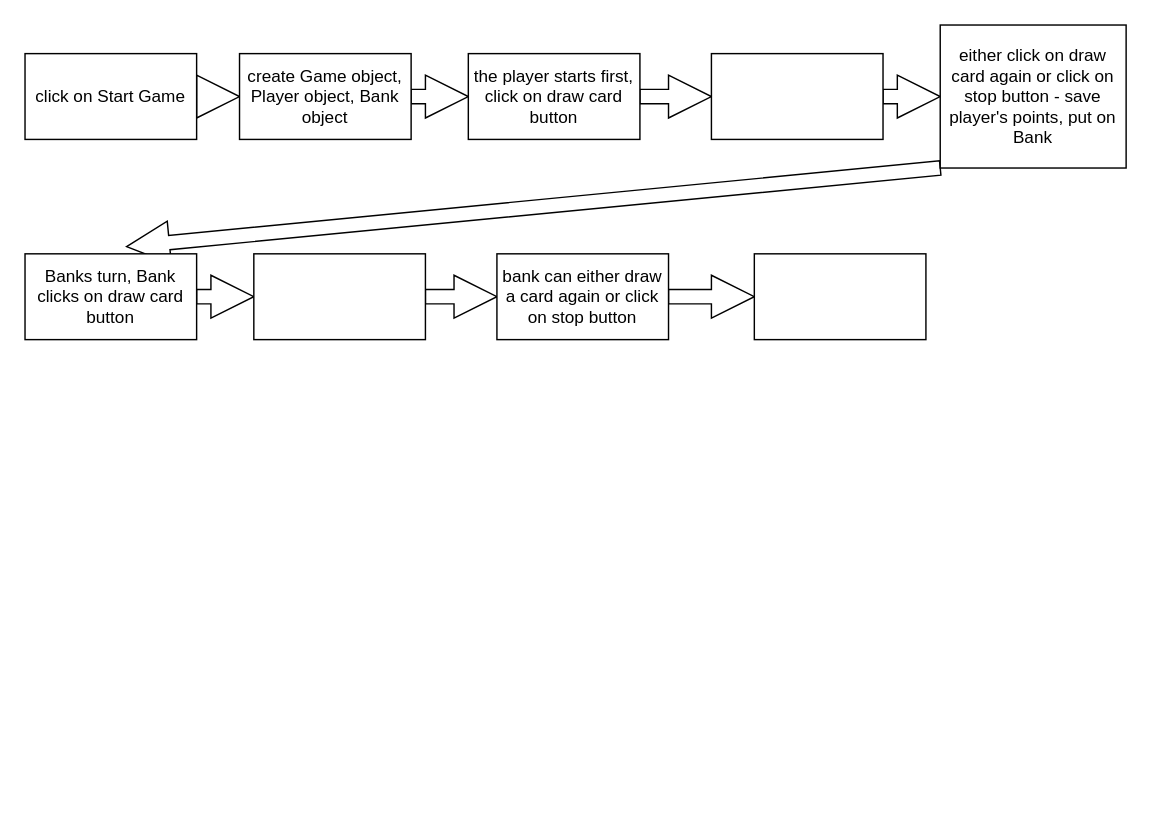
Some shapes in this 1151 by 814 pixel diagram are drawn without their labels. Each missing label, with the centre of its shape:
compare bank and players points, decide who wins: [839,296]
draw a card from the deck, add card to the player's hand, add points for player: [796,95]
draw a card from the deck, add the card to the bank's hand, add points for bank: [338,296]
